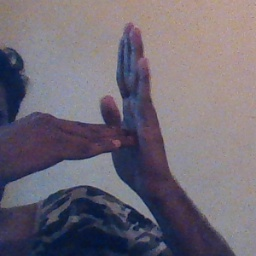Z: (52, 22, 169, 186)
